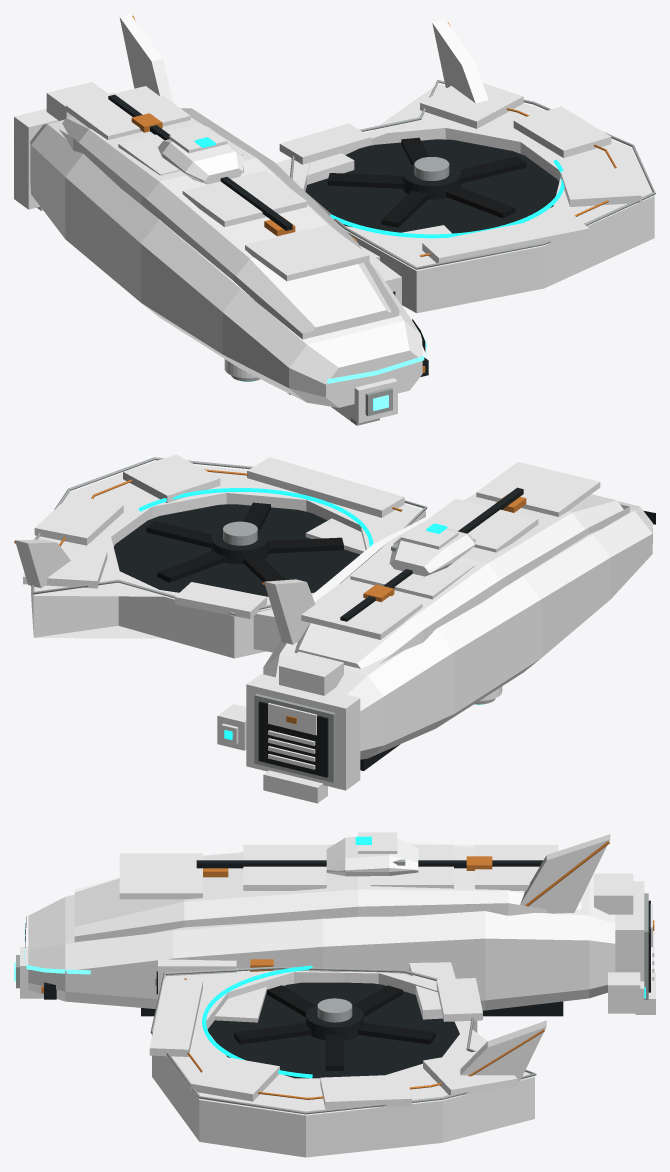
The model's file is morrowgear-family-a-engineer-v2.glb.
3 renders of one model, top to bottom at view 1: azimuth 30°, elevation 25°; view 2: azimuth 150°, elevation 25°; view 3: azimuth 270°, elevation 25°, orthographic.
Visible parts, largest first — view 1: F01_Fuselage, W02_DuctWing.R, F02_UpperArmor, R02_InnerWell.R, F02_TopPanel_0, W02_ArmorPanel_0.R, F02_TopPanel_1, F02_TopPanel_3, W02_ArmorPanel_2.R, W02_ArmorPanel_1.R, W02_ArmorPanel_3.R, ENG_PowerCowl (+19 smaller); view 2: F01_Fuselage, W02_DuctWing.R, F02_UpperArmor, R02_InnerWell.R, V01_RearHousing, W02_ArmorPanel_0.R, F02_TopPanel_0, F02_TopPanel_3, F02_TopPanel_1, W02_ArmorPanel_2.R, W02_ArmorPanel_1.R, V01_Recess (+23 smaller); view 3: F01_Fuselage, W02_DuctWing.R, F02_UpperArmor, R02_InnerWell.R, F02_TopPanel_0, T02_CenterFin.R, F02_TopPanel_1, W02_ArmorPanel_0.R, W02_ArmorPanel_2.R, W02_ArmorPanel_1.R, ENG_PowerCowl, W04_RearTipFairing.R (+24 smaller).
Boxes of the visible parts, left/top/right/bottom form: F01_Fuselage: left=30, top=119, right=422, bottom=407; W02_DuctWing.R: left=292, top=84, right=654, bottom=313; F02_UpperArmor: left=59, top=108, right=399, bottom=339; R02_InnerWell.R: left=305, top=139, right=558, bottom=233; F02_TopPanel_0: left=245, top=224, right=369, bottom=281; W02_ArmorPanel_0.R: left=422, top=213, right=588, bottom=262; F02_TopPanel_1: left=182, top=170, right=307, bottom=227; F02_TopPanel_3: left=66, top=86, right=190, bottom=139; W02_ArmorPanel_2.R: left=513, top=106, right=611, bottom=157; W02_ArmorPanel_1.R: left=560, top=167, right=641, bottom=206; W02_ArmorPanel_3.R: left=420, top=83, right=523, bottom=128; ENG_PowerCowl: left=157, top=139, right=243, bottom=184; F01_Fuselage: left=263, top=501, right=652, bottom=759; W02_DuctWing.R: left=31, top=461, right=425, bottom=658; F02_UpperArmor: left=294, top=493, right=629, bottom=668; R02_InnerWell.R: left=114, top=504, right=359, bottom=596; V01_RearHousing: left=246, top=674, right=360, bottom=790; W02_ArmorPanel_0.R: left=247, top=457, right=404, bottom=517; F02_TopPanel_0: left=476, top=462, right=600, bottom=516; F02_TopPanel_3: left=301, top=583, right=422, bottom=639; F02_TopPanel_1: left=423, top=499, right=538, bottom=552; W02_ArmorPanel_2.R: left=34, top=494, right=123, bottom=545; W02_ArmorPanel_1.R: left=123, top=454, right=220, bottom=502; V01_Recess: left=258, top=701, right=328, bottom=777; F01_Fuselage: left=28, top=875, right=615, bottom=1010; W02_DuctWing.R: left=152, top=970, right=534, bottom=1157; F02_UpperArmor: left=74, top=843, right=581, bottom=941; R02_InnerWell.R: left=207, top=982, right=459, bottom=1078; F02_TopPanel_0: left=119, top=853, right=202, bottom=899; T02_CenterFin.R: left=520, top=834, right=610, bottom=913; F02_TopPanel_1: left=243, top=845, right=326, bottom=890; W02_ArmorPanel_0.R: left=149, top=979, right=202, bottom=1056; W02_ArmorPanel_2.R: left=320, top=1074, right=411, bottom=1109; W02_ArmorPanel_1.R: left=190, top=1055, right=279, bottom=1101; ENG_PowerCowl: left=326, top=837, right=418, bottom=876; W04_RearTipFairing.R: left=460, top=1020, right=546, bottom=1081.
Size of what is drawn, in the model's own units: 4.8 by 2.39 by 5.55.
